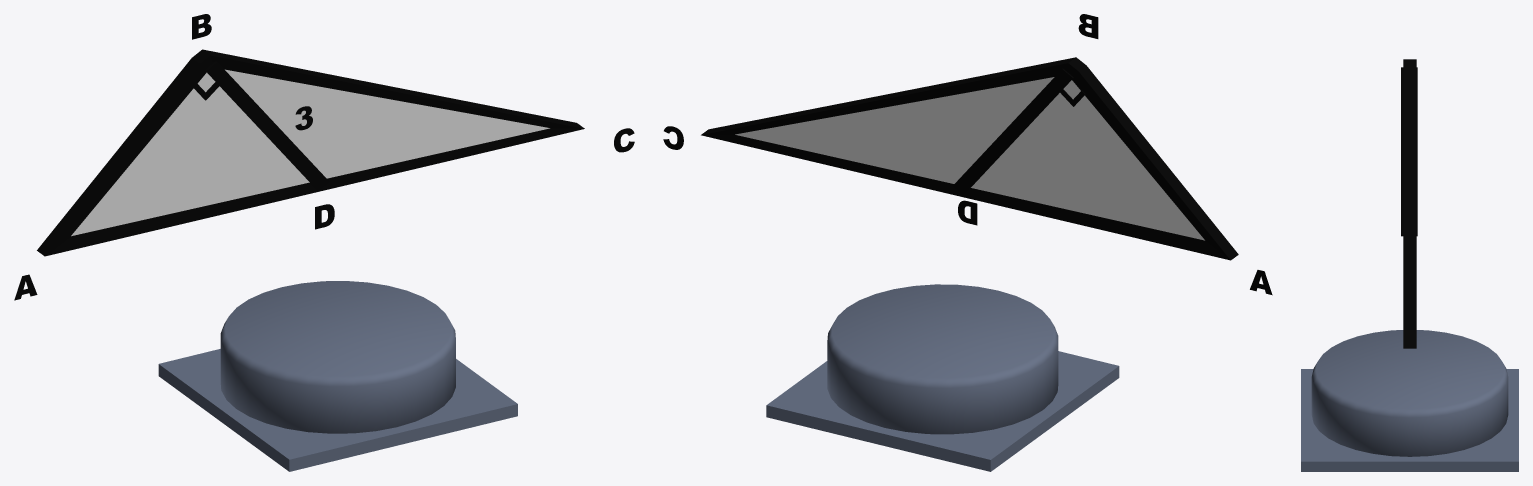
The picture shows the model from 3 angles, left to right: view 1: azimuth 30°, elevation 25°; view 2: azimuth 150°, elevation 25°; view 3: azimuth 270°, elevation 25°; orthographic projection. The views are drawn at different scales.
Parts seen in each view (by area): view 1: Cube.006, Cylinder, Cube, Cube.001; view 2: Cube.006, Cylinder, Cube, Cube.001; view 3: Cylinder, Cube, Cube.006, Cube.001.
Part boxes in pixels (box(x1,y1,x2,y2)): Cube.006: box(37, 49, 584, 256); Cylinder: box(220, 281, 455, 433); Cube: box(158, 349, 517, 471); Cube.001: box(205, 61, 328, 190); Cube.006: box(701, 57, 1238, 260); Cylinder: box(827, 284, 1058, 434); Cube: box(766, 351, 1119, 471); Cube.001: box(952, 68, 1073, 195); Cylinder: box(1311, 330, 1508, 456); Cube: box(1301, 369, 1518, 471); Cube.006: box(1403, 59, 1416, 348); Cube.001: box(1401, 67, 1417, 236).
Size of the model in its own units: 24.86 by 16.09 by 9.09.
